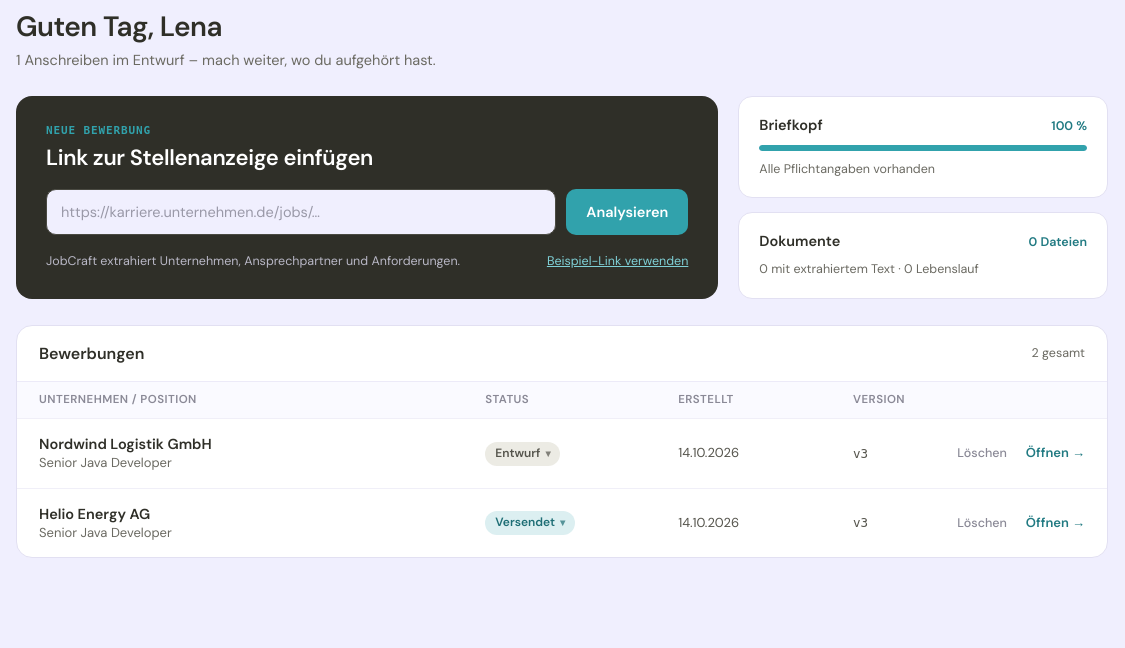
DashboardComponent › changes the status of an application
The image size is (1125, 648).
Step 1. Click the button with class "status-pill" showing "Entwurf ▾" → (523, 454), box [485,442,560,466]
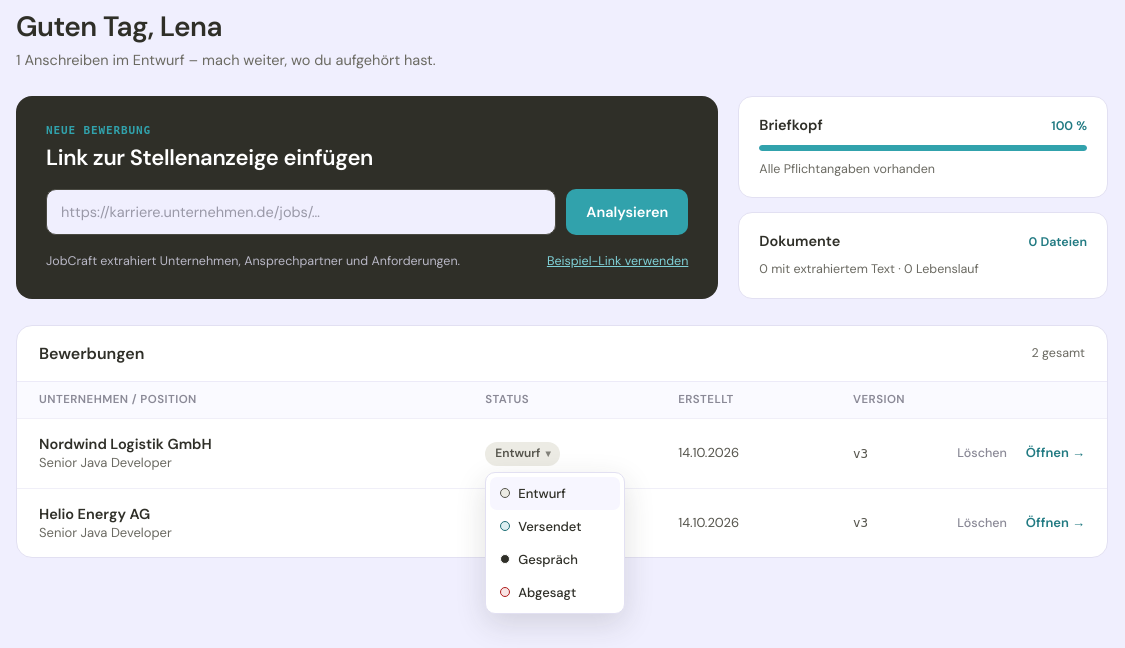
Now the number of menu items is 4
Step 2. Click the menu item "Versendet" → (555, 526), box [490,510,620,543]
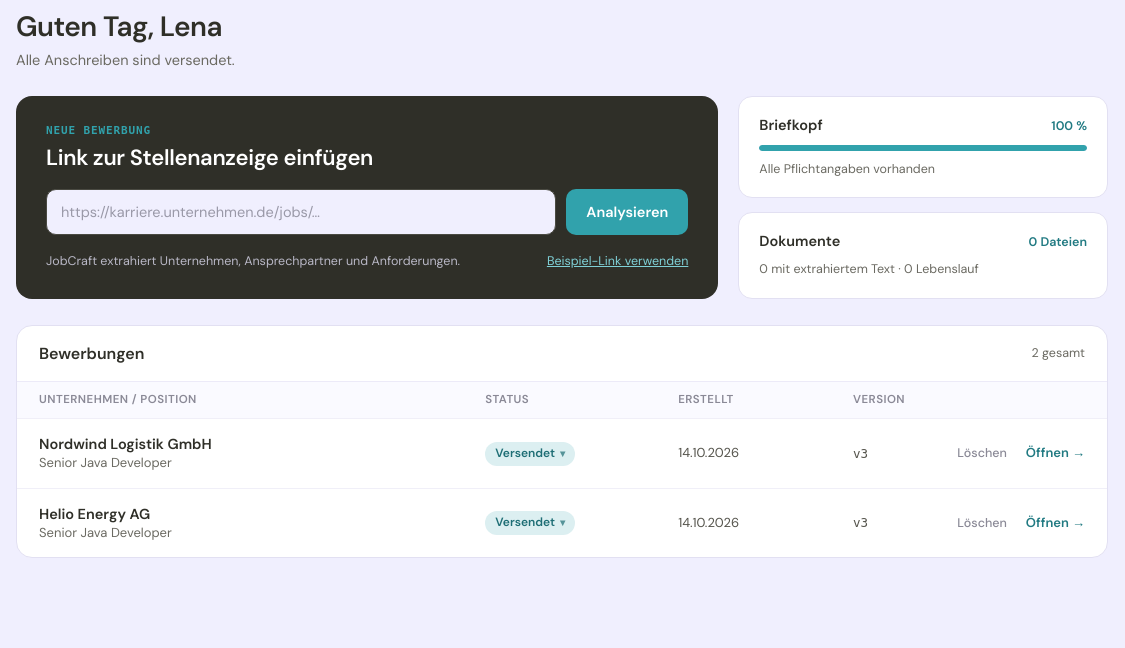
Now the button with class "status-pill" in the row of "Nordwind Logistik GmbH" reads "Versendet ▾", box [485,442,575,466]
